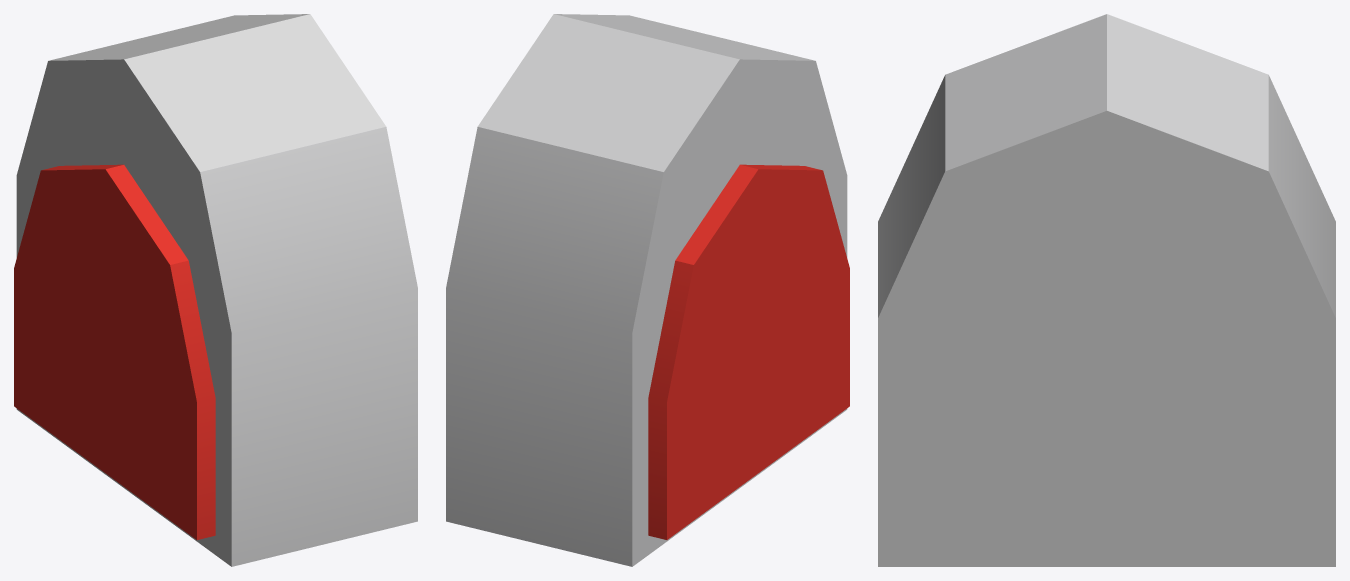
The model's file is tombstone_lod2.glb.
3 renders of one model, left to right at view 1: azimuth 30°, elevation 25°; view 2: azimuth 150°, elevation 25°; view 3: azimuth 270°, elevation 25°, orthographic. The views are drawn at different scales.
Visible parts, largest first — view 1: tombstone_lod2; view 2: tombstone_lod2; view 3: tombstone_lod2.
Part boxes in pixels (x1,y1,x2,y2): tombstone_lod2: [14, 14, 417, 566]; tombstone_lod2: [446, 14, 849, 566]; tombstone_lod2: [878, 14, 1335, 566].
Bounding box in the file's own units: 0.055 × 0.11 × 0.1.
